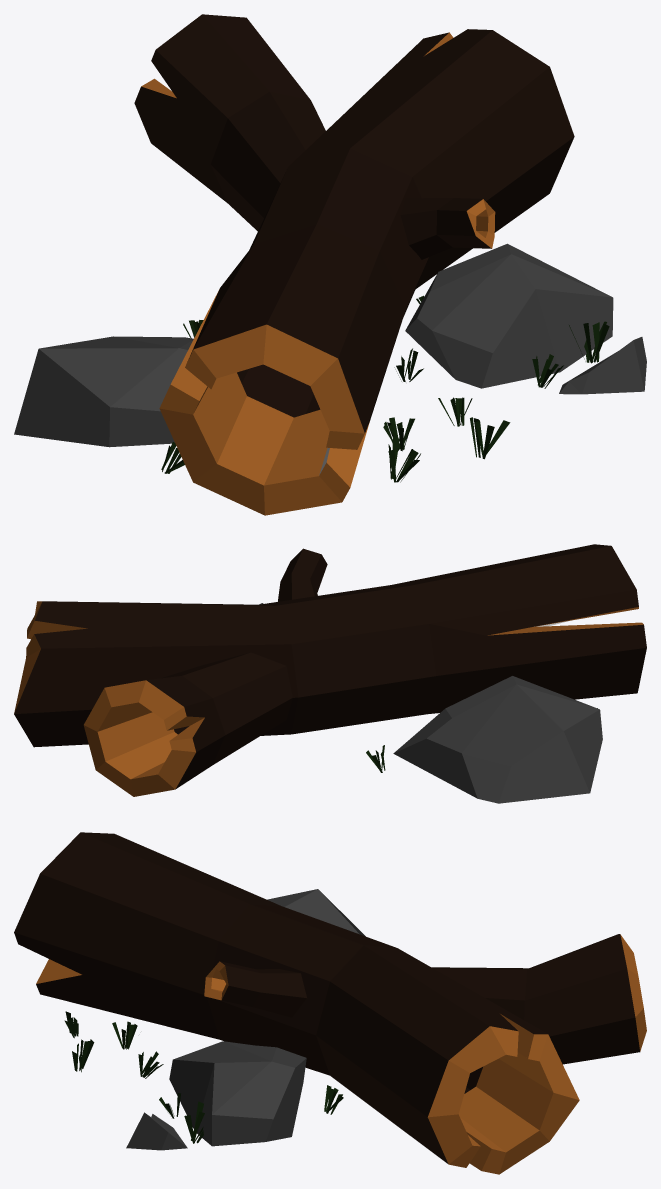
The model's file is Log.obj.
3 views of the same model, one above another, from view 1: azimuth 30°, elevation 25°; view 2: azimuth 150°, elevation 25°; view 3: azimuth 270°, elevation 25° (orthographic). The views are drawn at different scales.
Visible parts, largest first — view 1: Log_02_Cylinder.001_Brown, Log_02_Cylinder.001_Rock, Log_02_Cylinder.001_Orange_light, Log_02_Cylinder.001_Dark_green; view 2: Log_02_Cylinder.001_Brown, Log_02_Cylinder.001_Rock, Log_02_Cylinder.001_Orange_light; view 3: Log_02_Cylinder.001_Brown, Log_02_Cylinder.001_Orange_light, Log_02_Cylinder.001_Rock, Log_02_Cylinder.001_Dark_green.
Boxes of the visible parts, left/top/right/bottom form: Log_02_Cylinder.001_Brown: left=134, top=14, right=574, bottom=432; Log_02_Cylinder.001_Rock: left=14, top=243, right=646, bottom=447; Log_02_Cylinder.001_Orange_light: left=141, top=32, right=495, bottom=515; Log_02_Cylinder.001_Dark_green: left=161, top=295, right=609, bottom=482; Log_02_Cylinder.001_Brown: left=14, top=544, right=646, bottom=789; Log_02_Cylinder.001_Rock: left=259, top=603, right=602, bottom=803; Log_02_Cylinder.001_Orange_light: left=14, top=601, right=643, bottom=796; Log_02_Cylinder.001_Brown: left=14, top=832, right=639, bottom=1163; Log_02_Cylinder.001_Orange_light: left=36, top=934, right=646, bottom=1174; Log_02_Cylinder.001_Rock: left=126, top=889, right=365, bottom=1150; Log_02_Cylinder.001_Dark_green: left=64, top=1011, right=343, bottom=1143.
Size of the model in its own units: 3.19 by 0.931 by 3.37.
